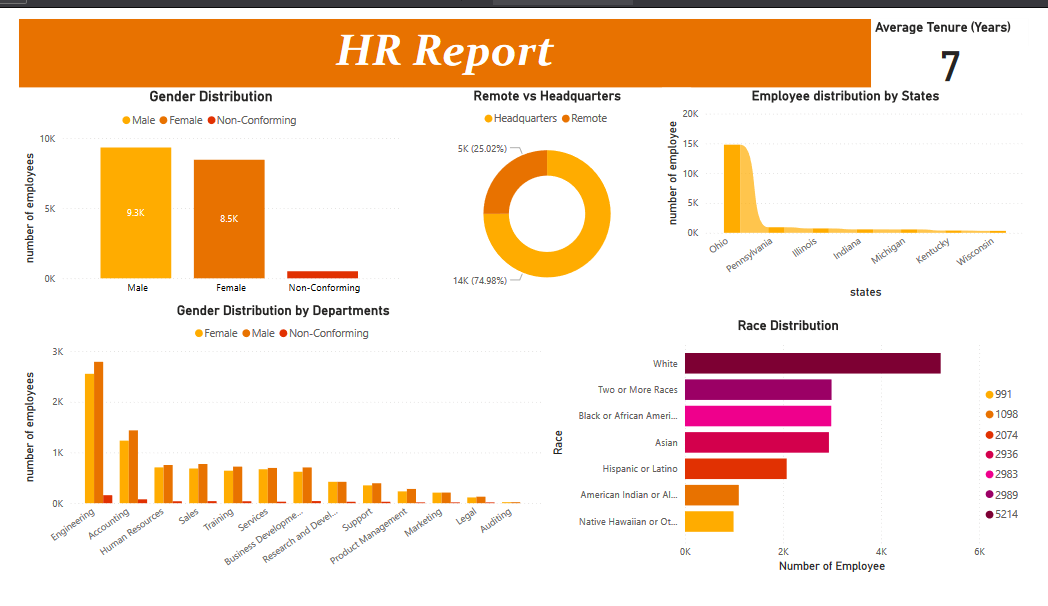

What the dashboard file says about the page in this screenshot:
{"tool":"powerbi","page":{"name":"Page 1","canvas":[1280,720],"ordinal":0},"visuals":[{"type":"textbox","box":[0,0,1080.1,87.3],"z":0},{"type":"card","title":"Average Tenure (Years)","fields":{"Values":["Sum(avg_tenure.Column1)"]},"box":[1080.1,0,199.9,87.3],"z":1000},{"type":"columnChart","title":"Gender Distribution","fields":{"Y":["Sum(gender.Column2)"],"Category":["gender.Column1"],"Series":["gender.Column1"]},"box":[0,87.3,487.1,272.1],"z":2000},{"type":"clusteredColumnChart","title":"Gender Distribution by Departments","fields":{"Y":["Sum(gender_dept.Column3)"],"Category":["gender_dept.Column1"],"Series":["gender_dept.Column2"]},"box":[0,359.5,670.2,346],"z":3000},{"type":"donutChart","title":"Remote vs Headquarters","fields":{"Category":["remote.Column1"],"Y":["Sum(remote.Column2)"]},"box":[487.1,87.3,364.5,272.1],"z":4000},{"type":"ribbonChart","title":"Employee distribution by States","fields":{"Category":["state_distribution.Column1"],"Y":["Sum(state_distribution.Column2)"]},"box":[814.7,87.3,465.3,272.1],"z":5000},{"type":"barChart","title":"Race Distribution","fields":{"Category":["race_distribution.Column1"],"Y":["Sum(race_distribution.Column2)"],"Series":["race_distribution.Column2"]},"box":[670.2,378,609.8,327.6],"z":6000}]}

Visuals, with their boxes in screenshot pixels (x1, y1, x2, y2), scaled from the page's 1280x720 canvas onto the 1048x606 screenshot:
textbox: select_region(0, 0, 884, 73)
"Average Tenure (Years)" card: select_region(884, 0, 1047, 73)
"Gender Distribution" columnChart: select_region(0, 73, 399, 302)
"Gender Distribution by Departments" clusteredColumnChart: select_region(0, 303, 549, 594)
"Remote vs Headquarters" donutChart: select_region(399, 73, 697, 302)
"Employee distribution by States" ribbonChart: select_region(667, 73, 1047, 302)
"Race Distribution" barChart: select_region(549, 318, 1047, 594)
